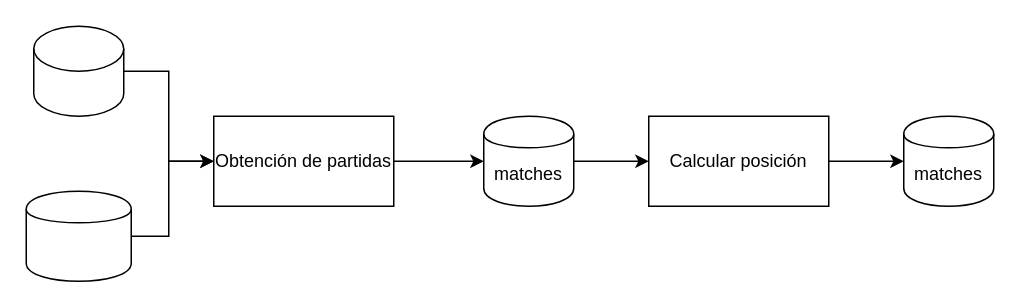
This 1020x308 diagram has some shape labels left out. The shapes that lost their labels are listed below. From the top down, each one's centre as x and y in pixels, then its label:
At pixel 78 70: "Riot API (ligas)".
At pixel 78 235: "summoners".
